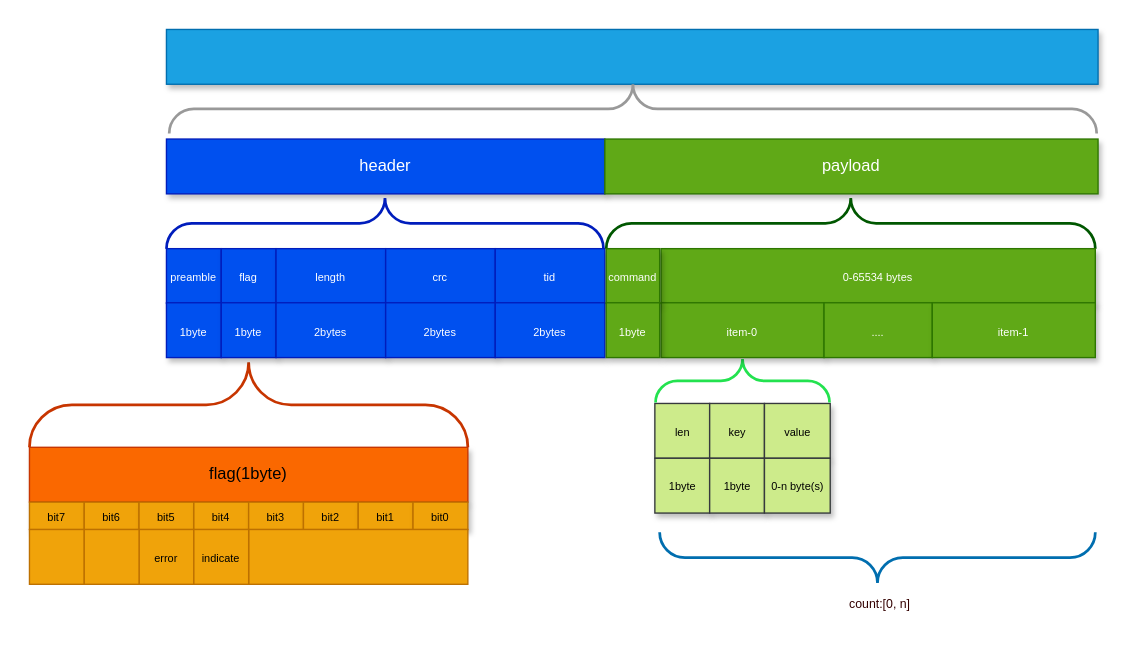
Some shapes in this 1130 by 648 pixel diagram are drawn without their labels. Each missing label, with the centre of its shape:
"packet data" belongs at point 633,58.
"version" belongs at point 357,556.
